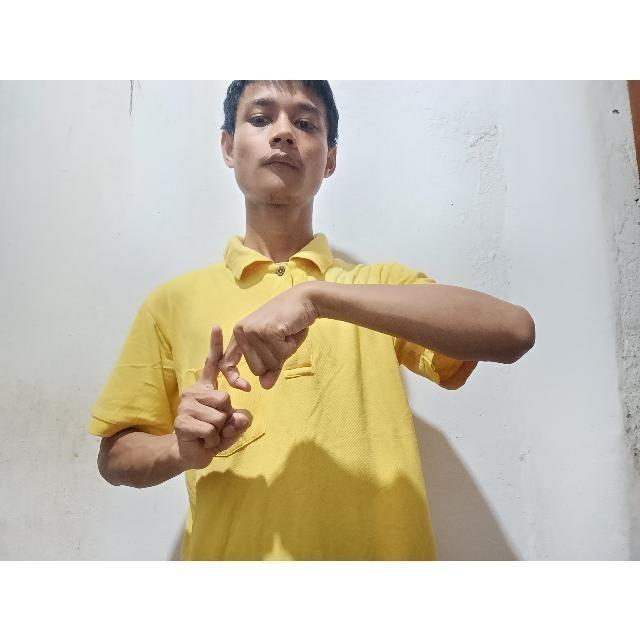K: (178, 292, 292, 470)
